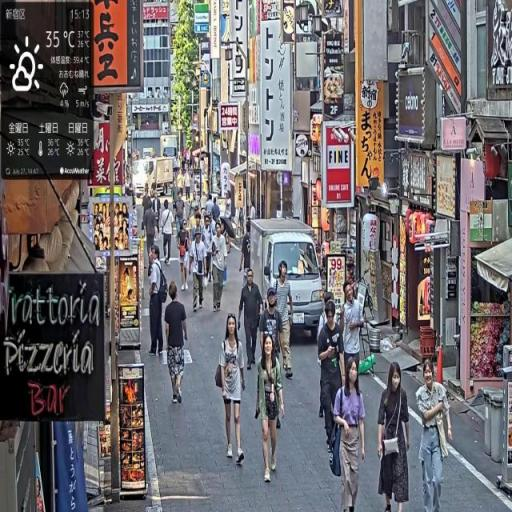person: (417, 360, 455, 511), (332, 356, 368, 512), (216, 311, 249, 467), (378, 361, 412, 512), (318, 298, 347, 461), (257, 332, 287, 488), (163, 279, 190, 408), (239, 268, 264, 373), (276, 261, 296, 383), (341, 279, 363, 387), (148, 245, 168, 360), (211, 220, 231, 313), (190, 227, 208, 313), (161, 198, 176, 266)
